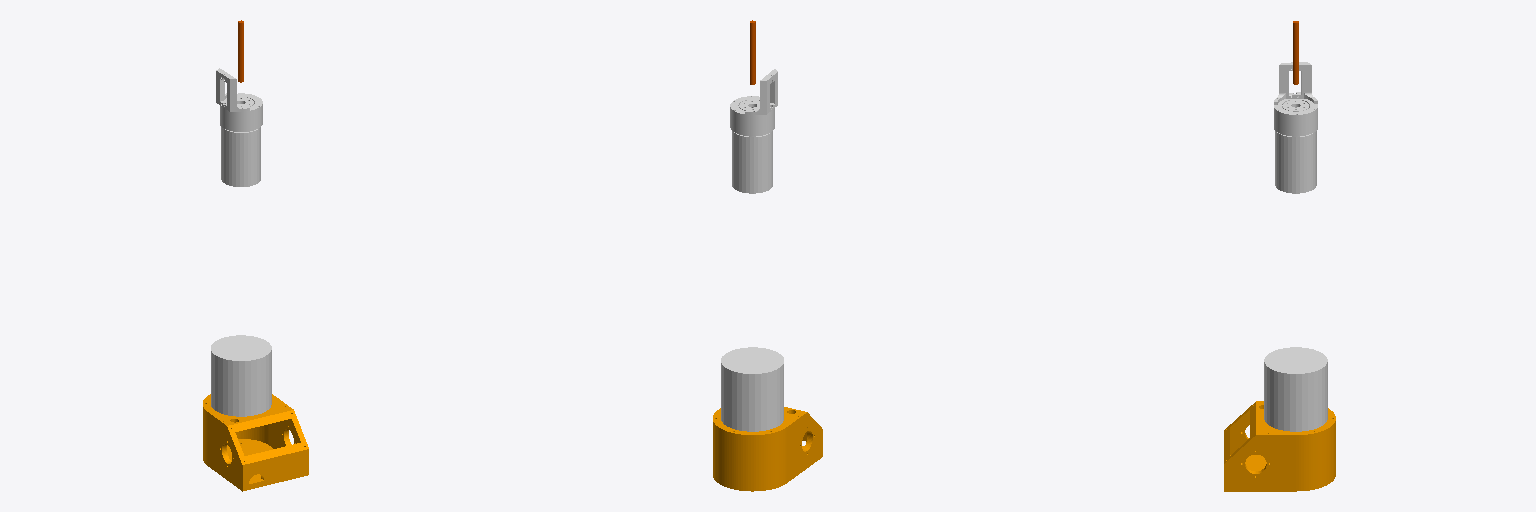
URDF robot description (NIXUS):
<?xml version="1.0" ?>
<!-- =================================================================================== -->
<!-- |    This document was autogenerated by xacro from nixus_v1.xacro                 | -->
<!-- |    EDITING THIS FILE BY HAND IS NOT RECOMMENDED                                 | -->
<!-- =================================================================================== -->
<robot name="NIXUS">
  <link name="base_link">
    <visual>
      <origin rpy="0.0 0 0" xyz="0 0 0"/>
      <geometry>
        <mesh filename="package://nixus/meshes/NIXUS_base.stl" scale="0.001 0.001 0.001"/>
      </geometry>
      <material name="orange">
        <color rgba="1 0.65 0.0 0.9"/>
      </material>
    </visual>
    <collision>
      <geometry>
        <mesh filename="package://nixus/meshes/NIXUS_base.stl" scale="0.001 0.001 0.001"/>
      </geometry>
    </collision>
    <inertial>
      <mass value="1000000"/>
      <!-- making it unmovable-->
      <inertia ixx="1.0" ixy="0.0" ixz="0.0" iyy="1.0" iyz="0.0" izz="1.0"/>
    </inertial>
  </link>
  <joint name="base_joint" type="revolute">
    <parent link="base_link"/>
    <child link="shoulder_link"/>
    <limit effort="1000.0" lower="-1.5707963267948966" upper="1.5707963267948966" velocity="0.5"/>
    <origin rpy="0 0 0" xyz="0 0 0.1"/>
    <axis xyz="0 0 1"/>
  </joint>
  <link name="shoulder_link">
    <visual>
      <origin rpy="0.0 0 0" xyz="0 0 0.05125"/>
      <geometry>
        <cylinder length="0.1025" radius="0.05125"/>
      </geometry>
      <material name="white">
        <color rgba="0.9 0.9 0.9 0.9"/>
      </material>
    </visual>
    <collision>
      <geometry>
        <cylinder length="0.1025" radius="0.1025"/>
      </geometry>
    </collision>
    <inertial>
      <mass value="1"/>
      <inertia ixx="1.0" ixy="0.0" ixz="0.0" iyy="1.0" iyz="0.0" izz="1.0"/>
    </inertial>
  </link>
  <joint name="shoulder_joint" type="revolute">
    <parent link="shoulder_link"/>
    <child link="humerus_link"/>
    <limit effort="1000.0" lower="0" upper="1.5707963267948966" velocity="0.5"/>
    <origin rpy="0 -1.5707963267948966 0" xyz="0 0 0.1025"/>
    <axis xyz="0 0 1"/>
  </joint>
  <link name="humerus_link">
    <visual>
      <origin rpy="0 0 0" xyz="0 0 0"/>
      <geometry>
        <mesh filename="package://nixus/meshes/NIXUS_humerus.stl" scale="0.001 0.001 0.001"/>
      </geometry>
      <material name="white">
        <color rgba="0.9 0.9 0.9 0.9"/>
      </material>
    </visual>
    <collision>
      <geometry>
        <mesh filename="package://nixus/meshes/NIXUS_humerus.stl" scale="0.001 0.001 0.001"/>
      </geometry>
    </collision>
    <inertial>
      <mass value="1"/>
      <inertia ixx="1.0" ixy="0.0" ixz="0.0" iyy="1.0" iyz="0.0" izz="1.0"/>
    </inertial>
  </link>
  <joint name="elbow_joint" type="revolute">
    <parent link="humerus_link"/>
    <child link="ulna_link"/>
    <limit effort="1000.0" lower="-2.356194490192345" upper="2.356194490192345" velocity="0.5"/>
    <origin rpy="0 0 0" xyz="0.3125 0 0"/>
    <axis xyz="0 0 1"/>
  </joint>
  <link name="ulna_link">
    <visual>
      <origin rpy="0 1.5707963267948966 0" xyz="0.05 0 0"/>
      <geometry>
        <cylinder length="0.1" radius="0.03333333333333333"/>
      </geometry>
      <material name="white">
        <color rgba="0.9 0.9 0.9 0.9"/>
      </material>
    </visual>
    <collision>
      <geometry>
        <cylinder length="0.1" radius="0.05"/>
      </geometry>
    </collision>
    <inertial>
      <mass value="1"/>
      <inertia ixx="1.0" ixy="0.0" ixz="0.0" iyy="1.0" iyz="0.0" izz="1.0"/>
    </inertial>
  </link>
  <joint name="wrist_joint" type="continuous">
    <parent link="ulna_link"/>
    <child link="wrist_link"/>
    <limit effort="1000.0" velocity="0.5"/>
    <origin rpy="0 1.5707963267948966 0" xyz="0.1 0 0"/>
    <axis xyz="0 0 1"/>
  </joint>
  <link name="wrist_link">
    <visual>
      <origin rpy="0 0 -0.5235987755982988" xyz="0 0 0"/>
      <geometry>
        <mesh filename="package://nixus/meshes/NIXUS_wrist.stl" scale="0.001 0.001 0.001"/>
      </geometry>
      <material name="white">
        <color rgba="0.9 0.9 0.9 0.9"/>
      </material>
    </visual>
    <collision>
      <geometry>
        <mesh filename="package://nixus/meshes/NIXUS_wrist.stl" scale="0.001 0.001 0.001"/>
      </geometry>
    </collision>
    <inertial>
      <mass value="1"/>
      <inertia ixx="1.0" ixy="0.0" ixz="0.0" iyy="1.0" iyz="0.0" izz="1.0"/>
    </inertial>
  </link>
  <joint name="end_joint" type="revolute">
    <parent link="wrist_link"/>
    <child link="end_link"/>
    <limit effort="1000.0" lower="-1.5707963267948966" upper="1.5707963267948966" velocity="0.5"/>
    <origin rpy="0 0 0" xyz="0 0 0.08"/>
    <axis xyz="1 0 0"/>
  </joint>
  <link name="end_link">
    <visual>
      <origin rpy="0 0 0" xyz="0 0 0.055"/>
      <geometry>
        <cylinder length="0.11" radius="0.005"/>
      </geometry>
    </visual>
    <inertial>
      <mass value="1"/>
      <inertia ixx="1.0" ixy="0.0" ixz="0.0" iyy="1.0" iyz="0.0" izz="1.0"/>
    </inertial>
  </link>
</robot>

--- Facts derived from the render (not from the file) ---
Views: 3 orthographic renders of the robot side by side, from view 1: azimuth 30°, elevation 25°; view 2: azimuth 150°, elevation 25°; view 3: azimuth 270°, elevation 25°.
Robot: NIXUS — 6 links, 5 joints (4 revolute, 1 continuous); root link base_link; default pose: all joints at 0.
Visible links, largest first — view 1: base_link, shoulder_link, ulna_link, wrist_link; view 2: base_link, shoulder_link, ulna_link, wrist_link; view 3: base_link, shoulder_link, wrist_link, ulna_link.
Boxes of the visible links, left/top/right/bottom form: base_link: left=203, top=394, right=308, bottom=491; shoulder_link: left=211, top=335, right=271, bottom=416; ulna_link: left=221, top=127, right=260, bottom=186; wrist_link: left=216, top=68, right=262, bottom=131; base_link: left=713, top=407, right=822, bottom=491; shoulder_link: left=721, top=347, right=783, bottom=431; ulna_link: left=732, top=131, right=772, bottom=193; wrist_link: left=730, top=69, right=777, bottom=136; base_link: left=1224, top=401, right=1335, bottom=491; shoulder_link: left=1264, top=347, right=1327, bottom=431; wrist_link: left=1274, top=62, right=1317, bottom=136; ulna_link: left=1275, top=131, right=1316, bottom=193.
Size in the robot's own frame: 0.129 by 0.1805 by 0.805 metres.
2 mesh visuals loaded from 3 distinct referenced files (2 binary STL); not drawn: 1 (reference not matched to a file when rendering).
